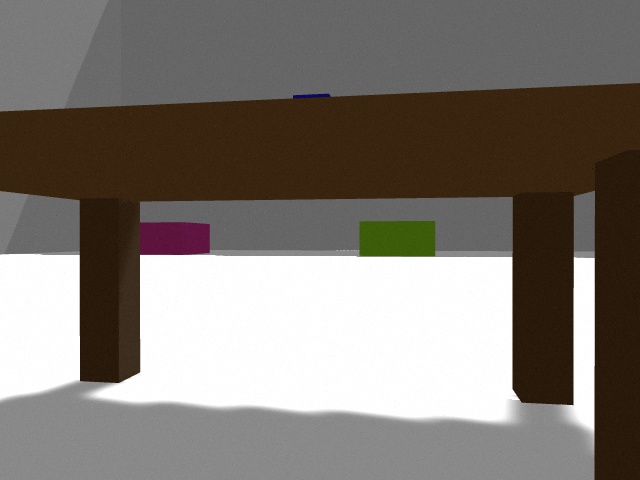blue_cube: (293, 94, 330, 98)
green_drop_zone: (359, 221, 435, 256)
red_drop_zone: (140, 222, 210, 255)
